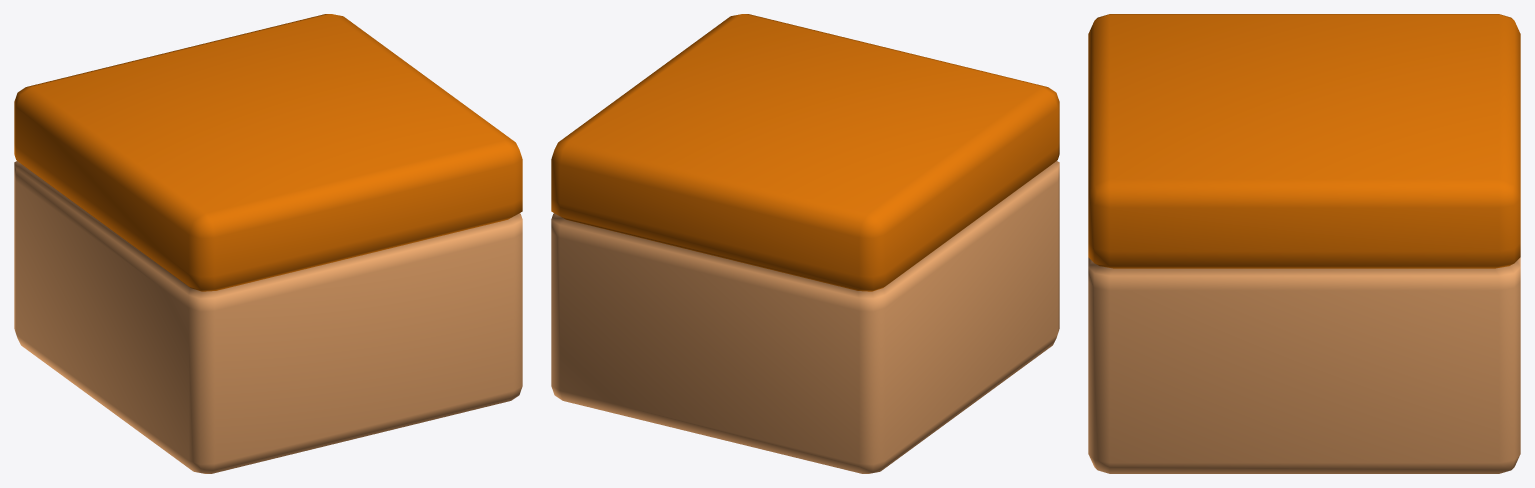
File: Counter_F_01.fbx
3 renders of one model, left to right at view 1: azimuth 30°, elevation 25°; view 2: azimuth 150°, elevation 25°; view 3: azimuth 270°, elevation 25°, orthographic. The views are drawn at different scales.
Parts seen in each view (by area): view 1: Counter_F_01; view 2: Counter_F_01; view 3: Counter_F_01.
Part boxes in pixels (x1,y1,x2,y2): Counter_F_01: (14, 14, 522, 473); Counter_F_01: (551, 14, 1059, 473); Counter_F_01: (1088, 14, 1520, 473).
Bounding box in the file's own units: 100 × 75 × 100.
